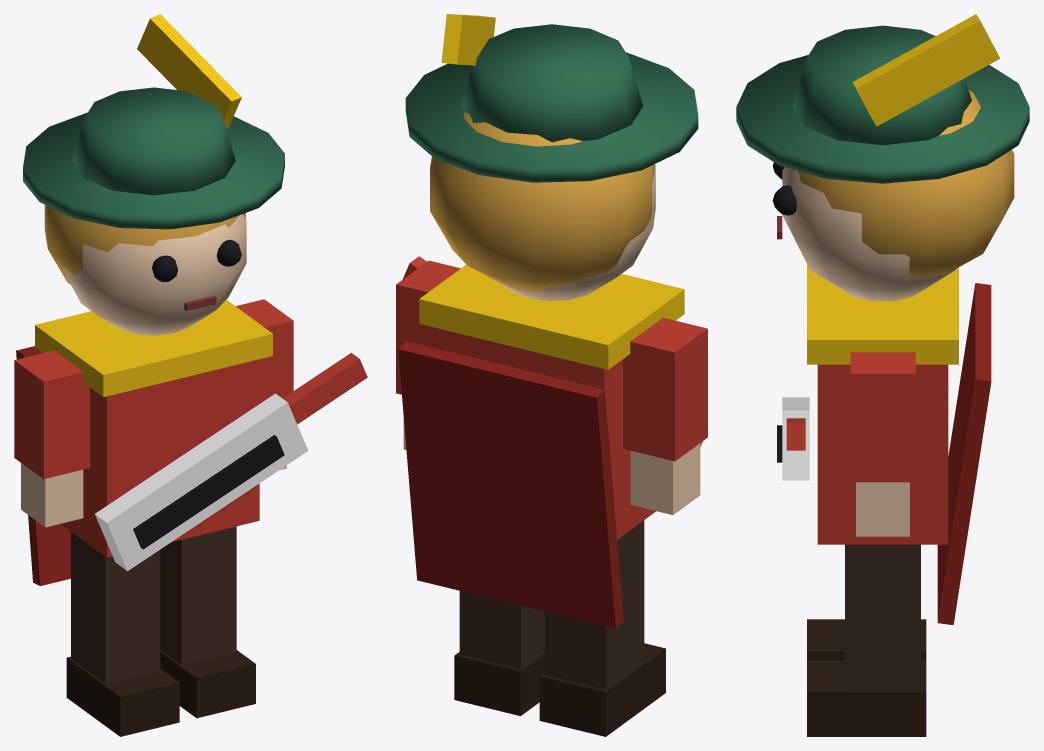
Rendered from kid_leo.glb.
The picture shows the model from 3 angles, left to right: view 1: azimuth 30°, elevation 25°; view 2: azimuth 150°, elevation 25°; view 3: azimuth 270°, elevation 25°; orthographic projection. The views are drawn at different scales.
Visible parts, largest first — view 1: torso, hatb, hatt, collar, skull, keytar, leg, leg.001, sleeve, shoe, shoe.001, feather (+6 smaller); view 2: cape, hair, hatb, hatt, collar, sleeve, leg, torso, shoe, leg.001, shoe.001, hand (+3 smaller); view 3: hatb, hair, torso, hatt, leg.001, collar, cape, skull, sleeve.001, feather, shoe.001, hand.001 (+4 smaller).
Part boxes in pixels (<box>): torso: <box>60,359,259,557</box>; hatb: <box>23,112,284,229</box>; hatt: <box>72,87,235,195</box>; collar: <box>35,300,272,397</box>; skull: <box>63,214,246,335</box>; keytar: <box>95,393,308,571</box>; leg: <box>71,532,160,683</box>; leg.001: <box>160,526,236,665</box>; sleeve: <box>14,350,90,479</box>; shoe: <box>66,656,179,736</box>; shoe.001: <box>160,650,255,718</box>; feather: <box>137,14,241,128</box>; cape: <box>398,341,623,628</box>; hair: <box>430,112,654,292</box>; hatb: <box>405,52,698,182</box>; hatt: <box>460,24,643,142</box>; collar: <box>419,264,684,369</box>; sleeve: <box>623,317,707,461</box>; leg: <box>544,520,644,689</box>; torso: <box>434,327,655,539</box>; shoe: <box>539,643,665,736</box>; leg.001: <box>459,591,544,668</box>; shoe.001: <box>454,652,544,715</box>; hand: <box>630,443,700,514</box>; hatb: <box>736,55,1029,183</box>; hair: <box>798,90,1014,276</box>; torso: <box>817,364,948,544</box>; hatt: <box>792,25,971,145</box>; leg.001: <box>845,544,920,691</box>; collar: <box>807,264,958,364</box>; cape: <box>937,283,991,624</box>; skull: <box>782,167,955,301</box>; sleeve.001: <box>850,352,915,482</box>; feather: <box>852,14,1000,126</box>; shoe.001: <box>807,660,926,736</box>; hand.001: <box>856,482,909,536</box>.
Size of the model in its own units: 0.6971 by 1.44 by 0.54.
